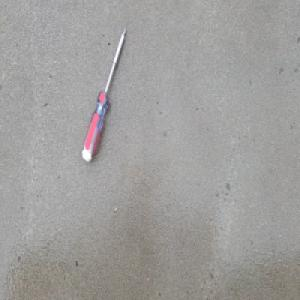Screwdriver: (81, 25, 127, 164)
